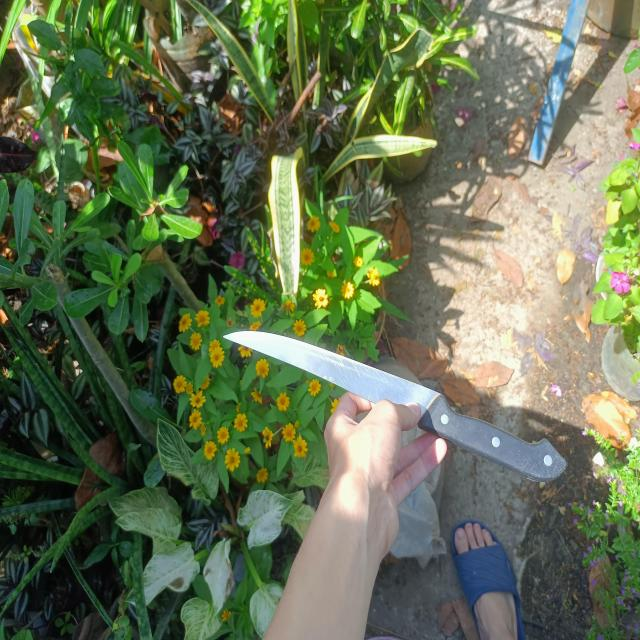knife: (223, 331, 567, 483)
